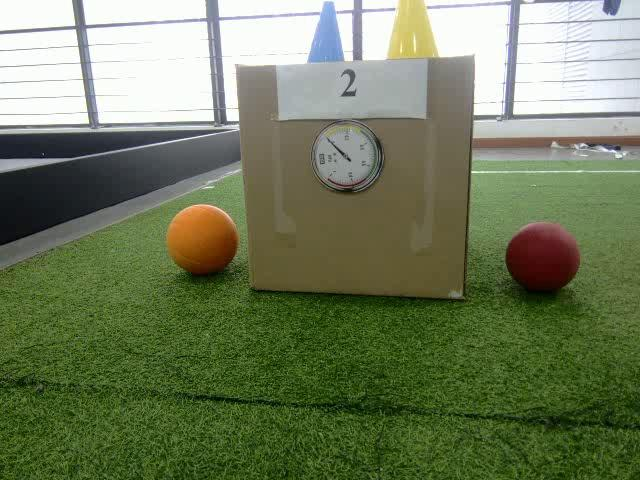2: (338, 68, 359, 99)
Dashboard: (310, 119, 384, 194)
blue_barrel: (304, 2, 350, 62)
orange_ball: (165, 206, 240, 276)
red_ball: (504, 221, 582, 293)
ssi: (318, 152, 327, 165)
yellow_barrel: (380, 0, 442, 60)
